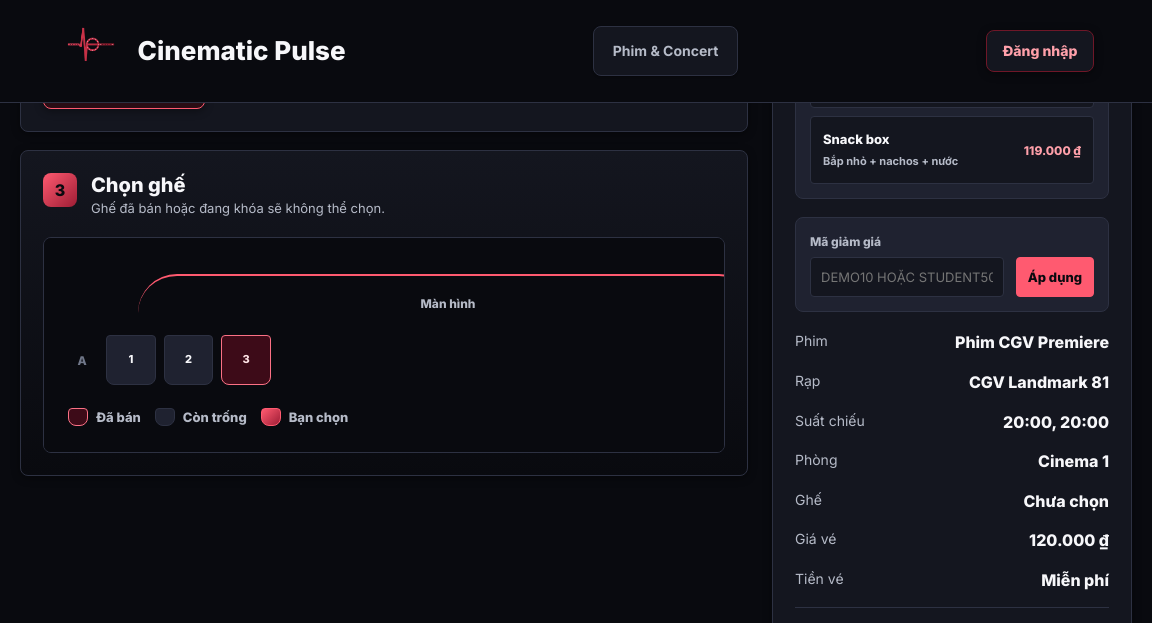
Test: CheckoutPage › allows selecting multiple seats before holding them
(page scrolled)
Step 1. Click the button named "Ghế A1" → [131, 360], box [106,335,156,385]
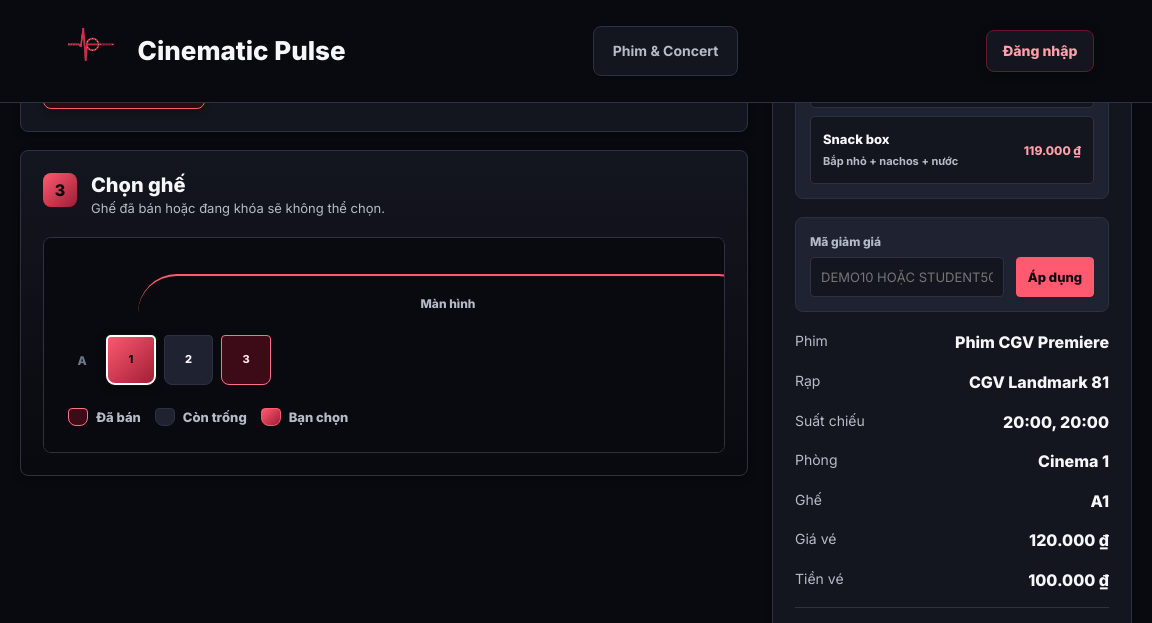
Step 2. Click the button named "Ghế A2" → [189, 360], box [164,335,213,385]
(page scrolled)
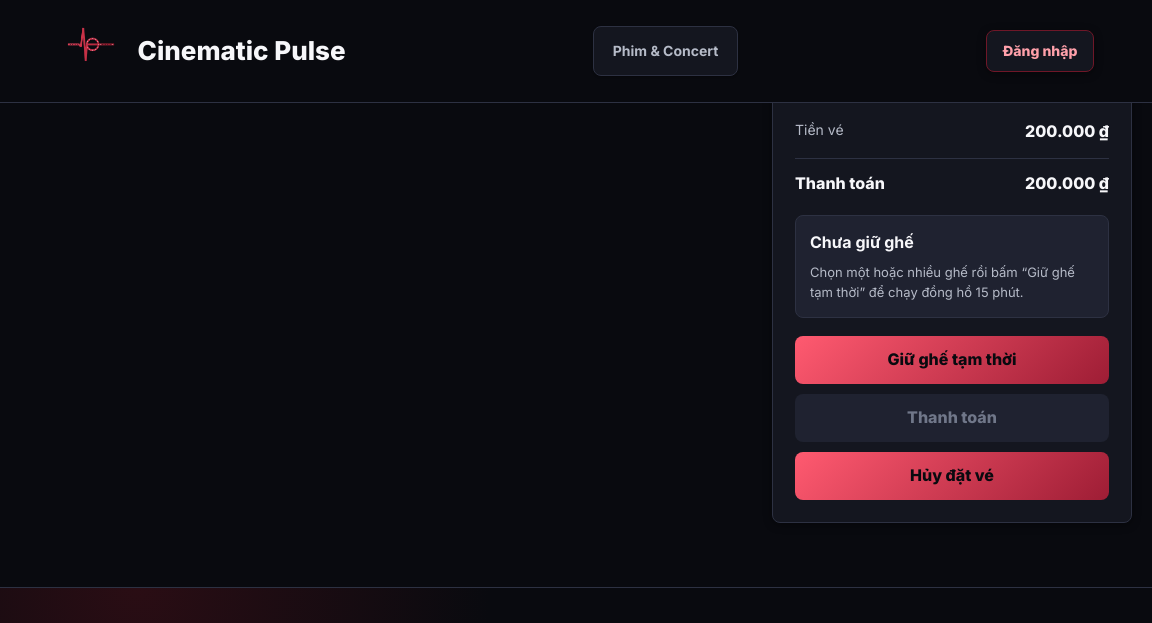
Step 3. Click the button "Giữ ghế tạm thời" → [952, 360], box [795,336,1109,384]
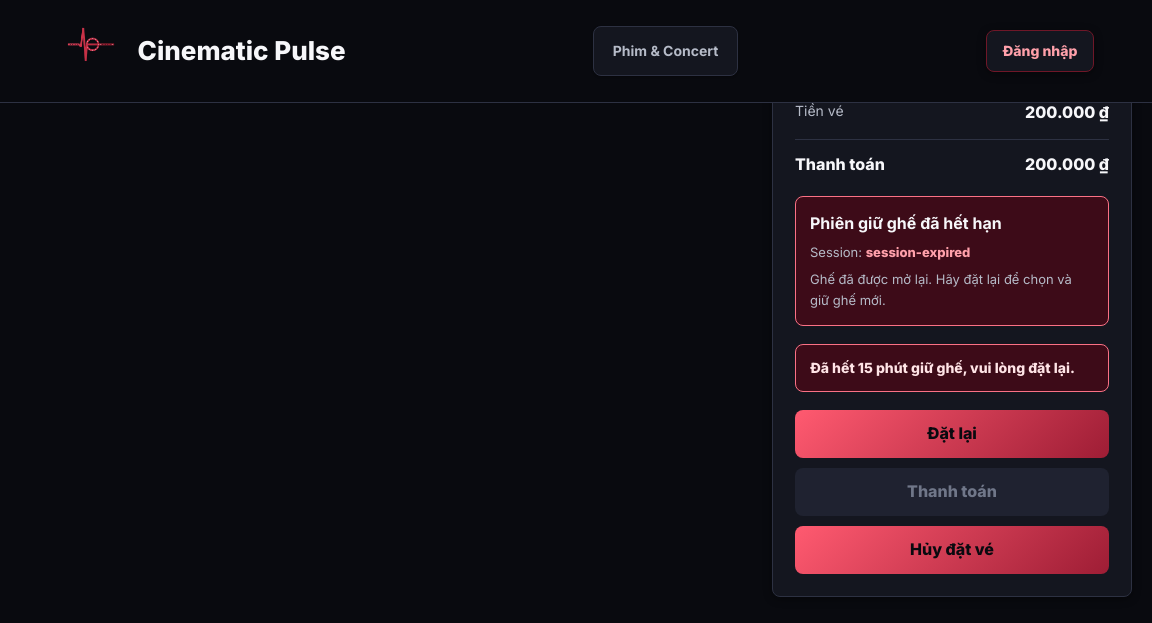
Expected: the button "Thanh toán" is disabled, [795,468,1109,516]
Expected: the message reads "Đã hết 15 phút giữ ghế, vui lòng đặt lại.", [810,359,1075,376]
